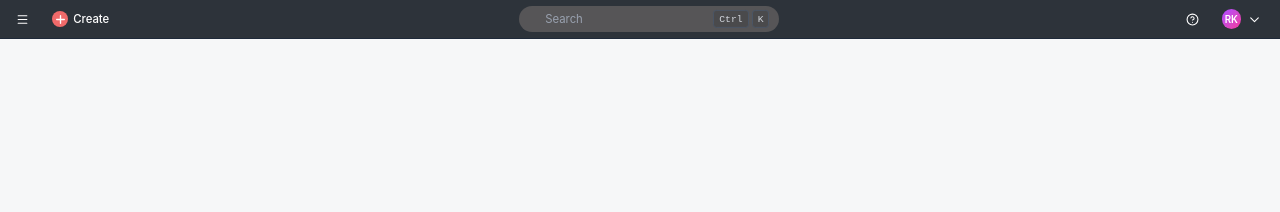
Test: AsanaTopNav › renders Create button with dropdown menu
Click the button with test id "create-button-top" at {"x": 81, "y": 19}, box [42,6,119,32]
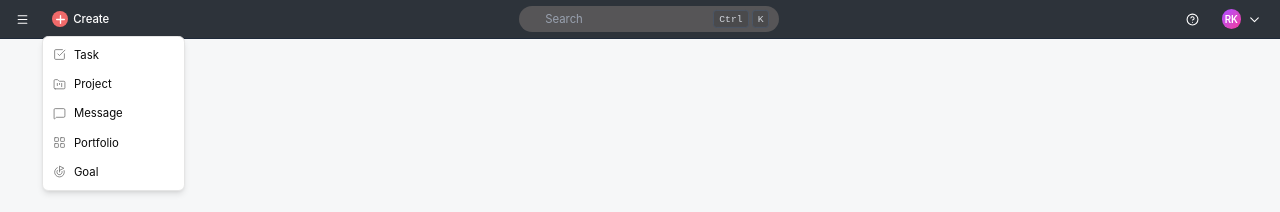
Check: the text "Task" is shown, box [74,47,99,63]
Check: the text "Project" is shown, box [74,76,112,92]
Check: the text "Message" is shown, box [74,105,123,122]
